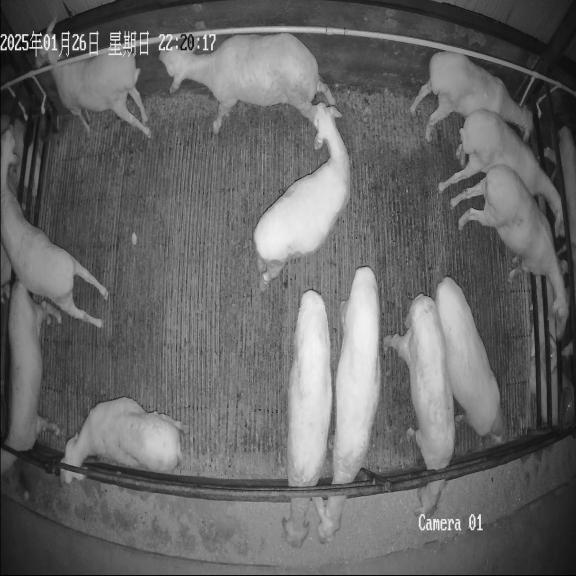eating: (316, 267, 380, 543), (384, 294, 455, 515), (282, 289, 332, 547), (0, 279, 61, 472), (60, 397, 186, 483)
stand: (1, 128, 108, 327), (451, 165, 569, 339), (253, 103, 350, 290), (159, 33, 335, 133), (438, 110, 563, 232), (36, 19, 151, 138), (435, 277, 505, 442), (410, 52, 532, 141)
